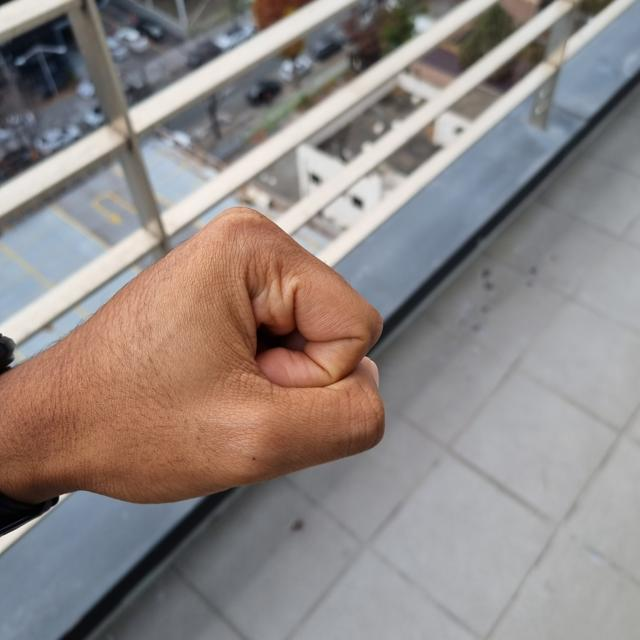Rock: (17, 206, 385, 503)
